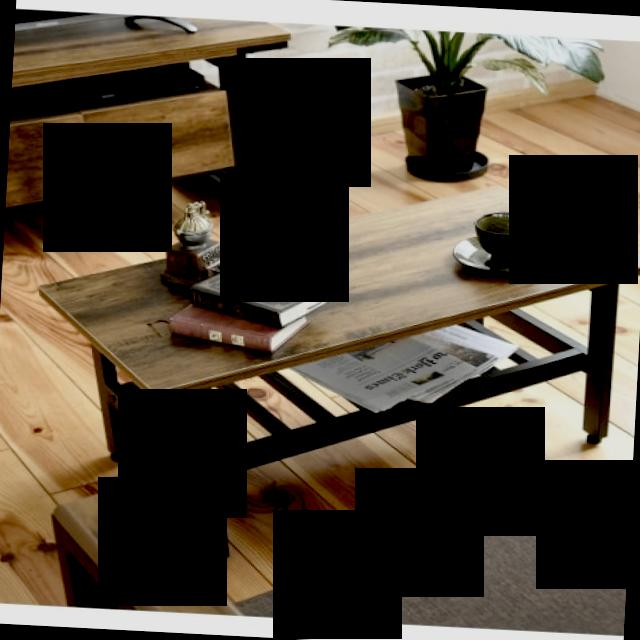vintage desk: (19, 157, 640, 580)
